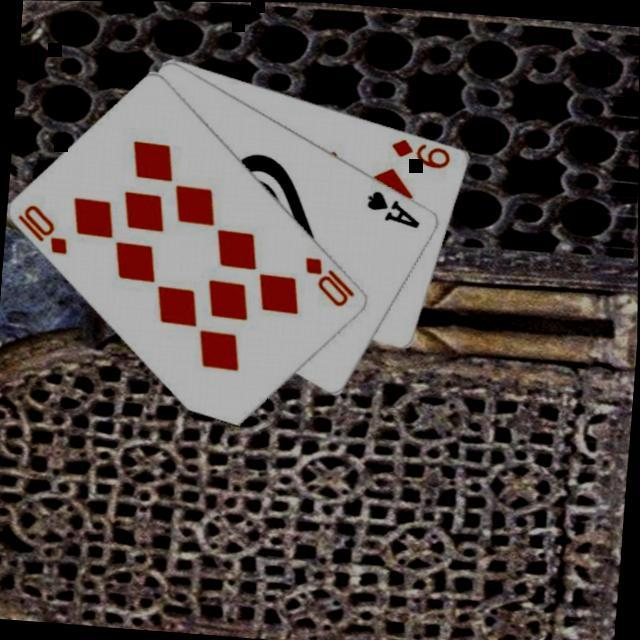10D: (9, 202, 72, 260), (297, 254, 358, 312)
9D: (385, 135, 453, 173)
AS: (360, 188, 423, 232)
